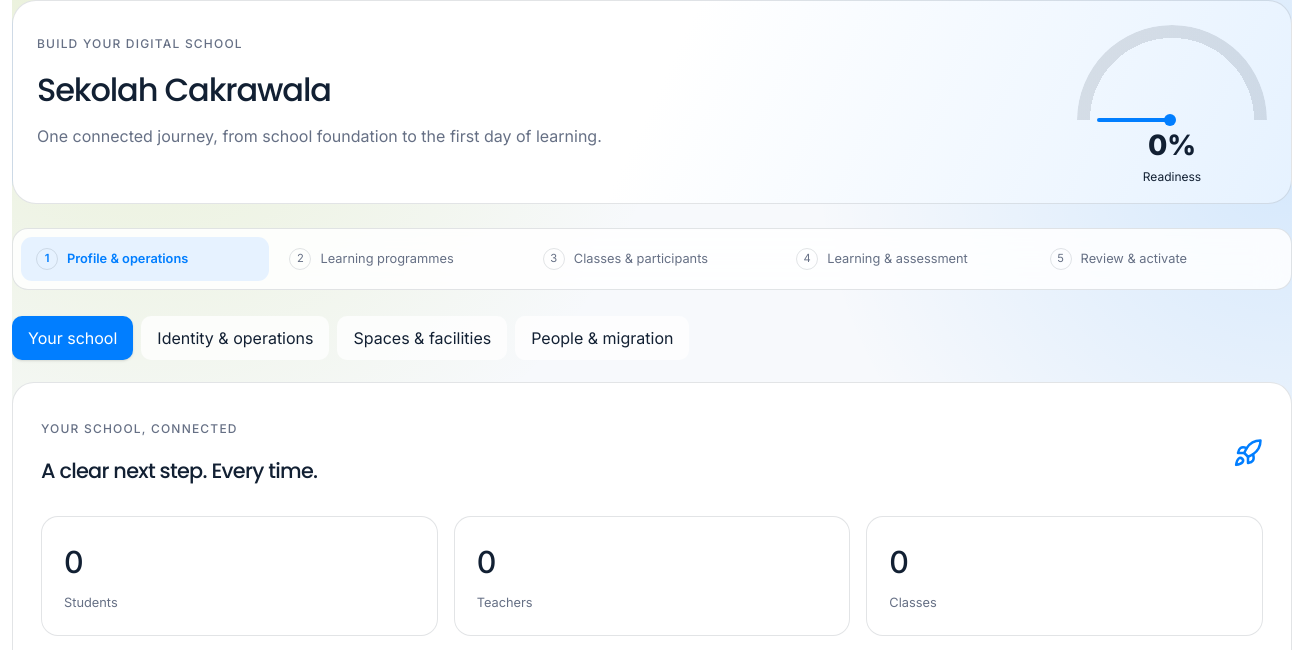
Scenario: Part 7 user workflows › shows source-based readiness and explains missing setup prerequisites
The width and height of the screenshot is (1292, 650).
Expected: the heading "Sekolah Cakrawala" is shown, [37,67,331,112]
Click the button "2 Learning programmes". click: (399, 259)
box: [274,237,523,281]
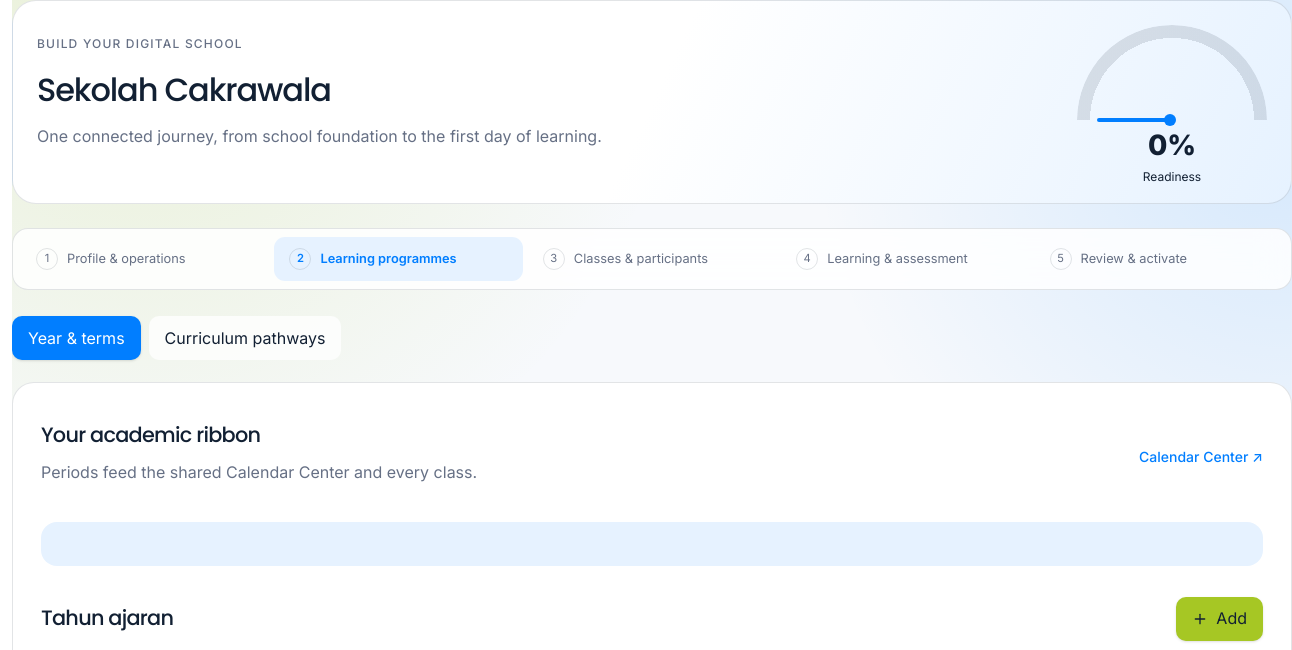
Click the button "Curriculum pathways". click: (245, 338)
box: [149,316,341,360]
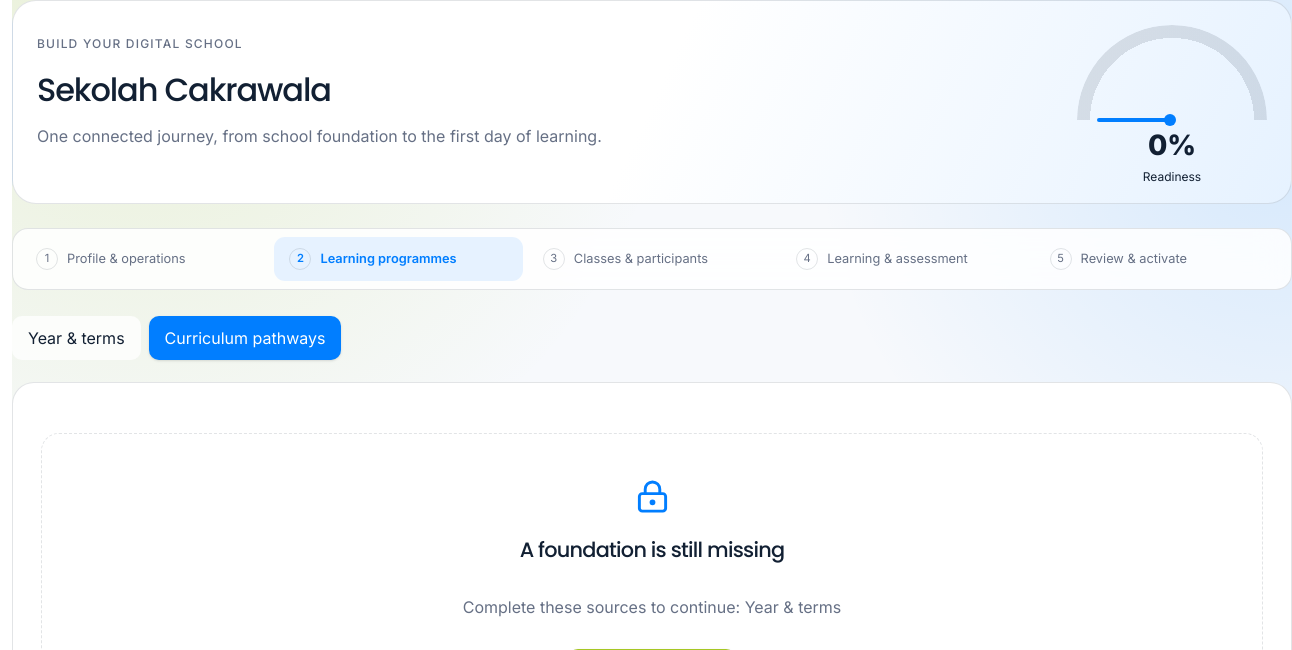
Expected: the heading "A foundation is still missing" is shown, [520,534,784,566]
